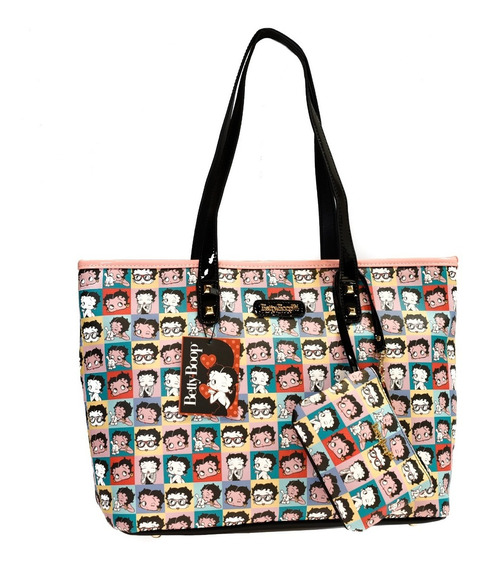cartera: (77, 27, 460, 539)
